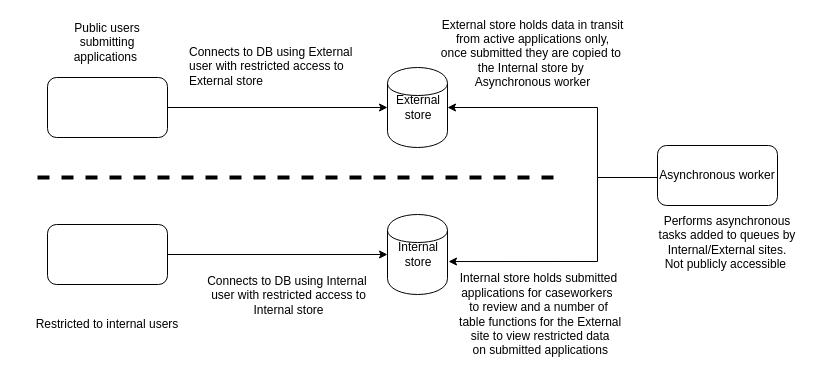
This 814x375 diagram has some shape labels left out. The shapes that lost their labels are listed below. From the top down, each one's centre as x and y in pixels, then its label:
(x=107, y=107): External site
(x=107, y=254): Internal site
